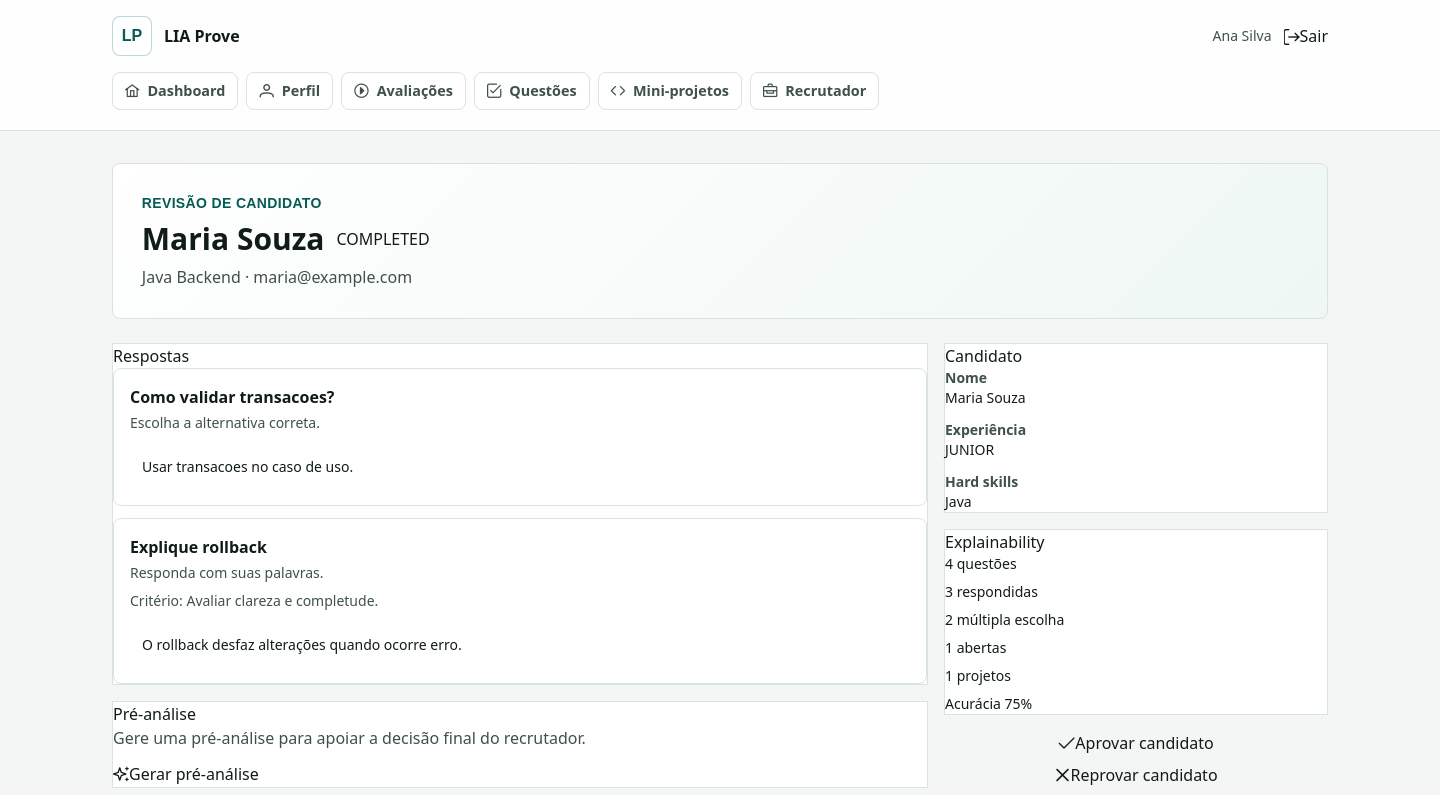
it: RecruiterAttemptDetailView › generates pre-analysis and renders ignored project metadata
Step 1. Click the button with test id "generate-pre-analysis" → (186,774), box [113,762,259,786]
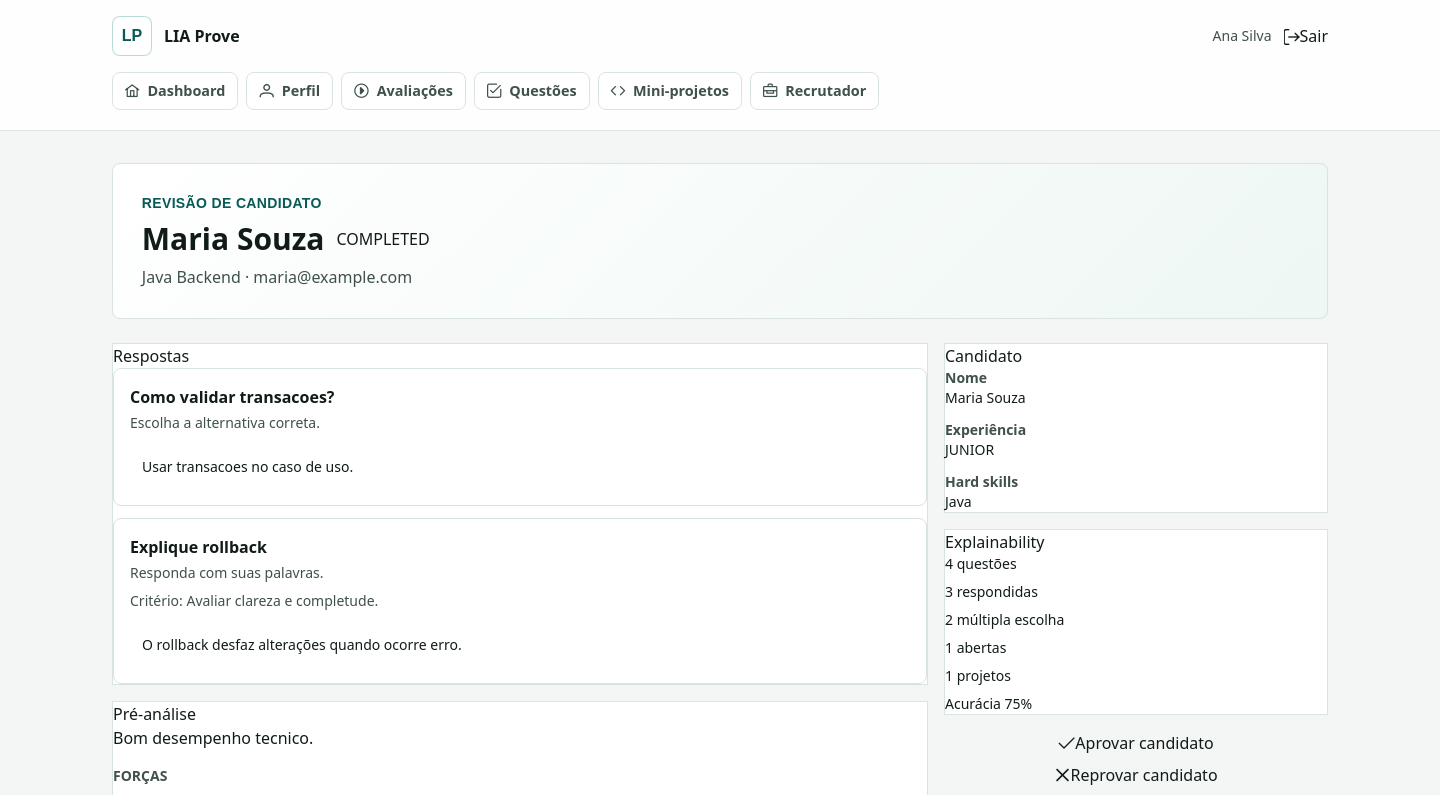
Expected: the text "Bom desempenho tecnico." is shown, [113,727,313,749]
